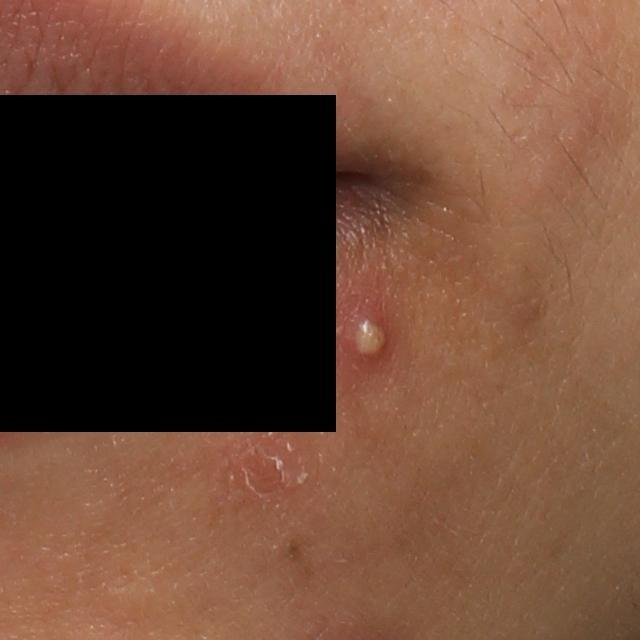pustule: (321, 291, 402, 379)
